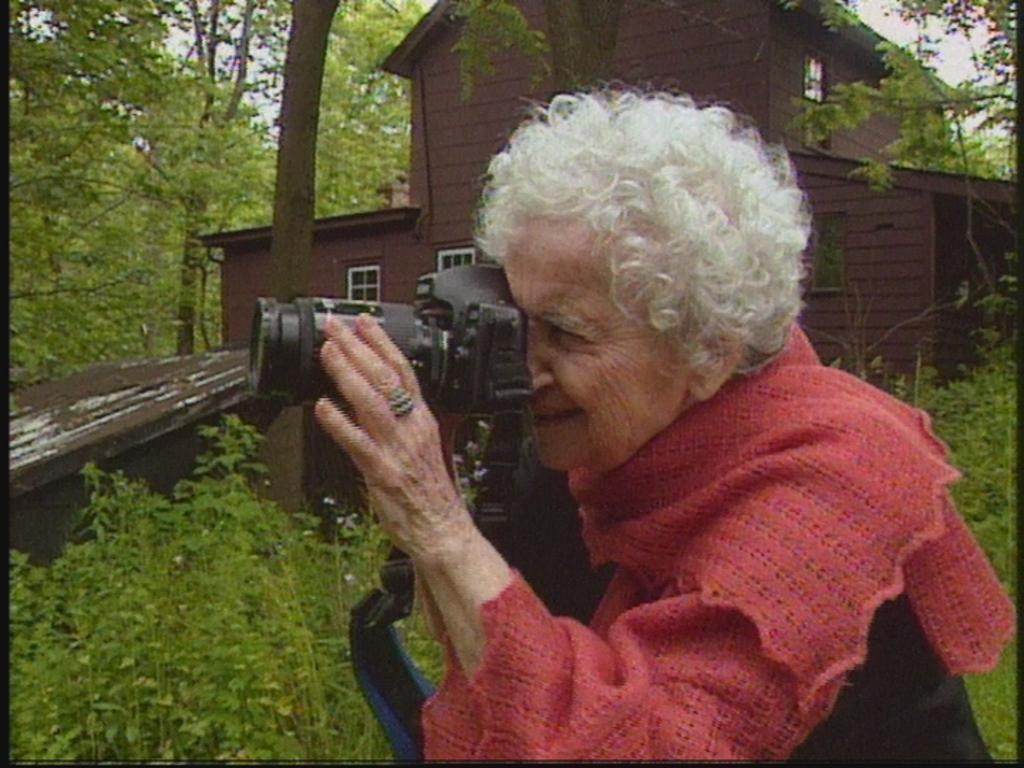face: (478, 200, 656, 476)
